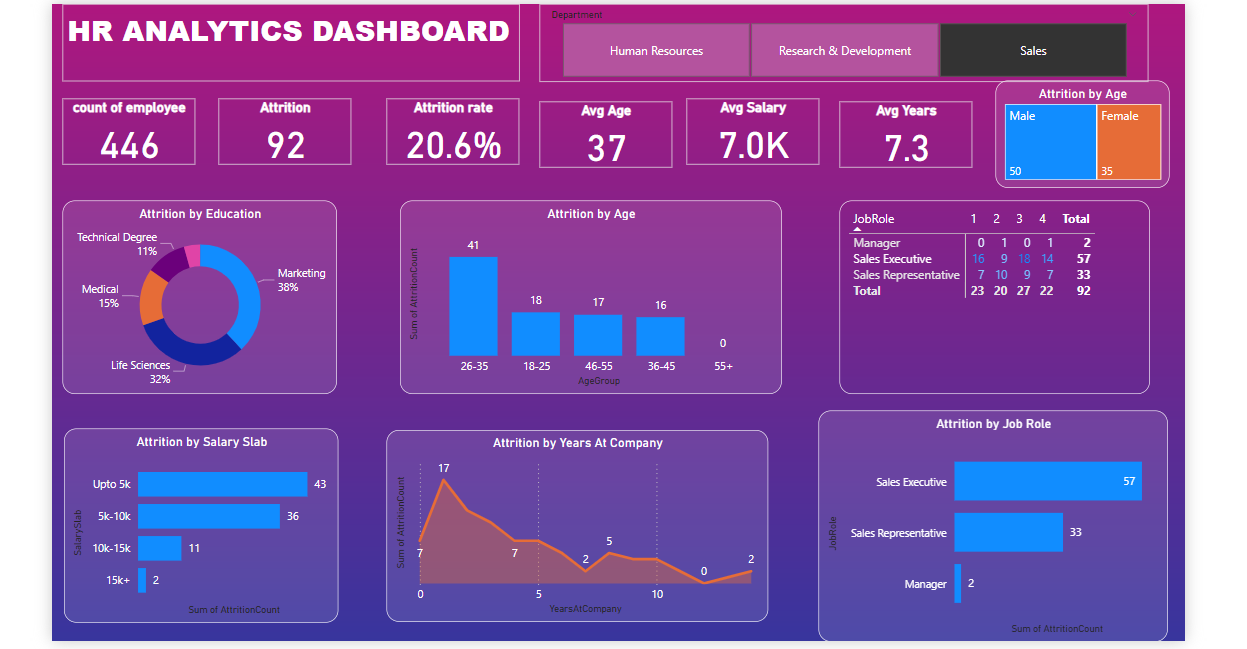

This screenshot's page, from the dashboard's own definition file:
{"tool":"powerbi","page":{"name":"Page 1","canvas":[1280,720],"ordinal":0},"visuals":[{"type":"card","title":"count of employee","fields":{"Values":["CountNonNull(HR_Analytics.EmpID)"]},"box":[12.2,107.3,149.9,74.9],"z":0},{"type":"card","title":"Attrition","fields":{"Values":["Sum(HR_Analytics.AttritionCount)"]},"box":[188.4,107.3,149.9,74.9],"z":1000},{"type":"card","title":"Attrition rate","fields":{"Values":["HR_Analytics.AttritionRate"]},"box":[378.7,107.3,149.9,74.9],"z":2000},{"type":"card","title":"Avg Age","fields":{"Values":["Avg(HR_Analytics.Age)"]},"box":[550.9,109.4,149.9,74.9],"z":3000},{"type":"card","title":"Avg Salary","fields":{"Values":["Avg(HR_Analytics.MonthlyIncome)"]},"box":[717,107.3,149.9,74.9],"z":4000},{"type":"card","title":"Avg Years","fields":{"Values":["Avg(HR_Analytics.YearsAtCompany)"]},"box":[889.1,109.4,149.9,74.9],"z":5000},{"type":"donutChart","title":"Attrition by Education","fields":{"Category":["HR_Analytics.EducationField"],"Y":["Sum(HR_Analytics.AttritionCount)"]},"box":[12.2,222.8,309.9,218.7],"z":6000},{"type":"columnChart","title":"Attrition by Age","fields":{"Category":["HR_Analytics.AgeGroup"],"Y":["Sum(HR_Analytics.AttritionCount)"]},"box":[392.9,222.8,431.4,218.7],"z":7000},{"type":"pivotTable","fields":{"Rows":["HR_Analytics.JobRole"],"Columns":["HR_Analytics.JobSatisfaction"],"Values":["Sum(HR_Analytics.AttritionCount)"]},"box":[889.1,222.8,350.4,218.7],"z":8000},{"type":"barChart","title":"Attrition by Salary Slab","fields":{"Category":["HR_Analytics.SalarySlab"],"Y":["Sum(HR_Analytics.AttritionCount)"]},"box":[12.7,480.4,310.2,219.5],"z":9000},{"type":"barChart","title":"Attrition by Job Role","fields":{"Y":["Sum(HR_Analytics.AttritionCount)"],"Category":["HR_Analytics.JobRole"]},"box":[866.8,459.7,394.9,261.3],"z":10000},{"type":"areaChart","title":"Attrition by Years At Company","fields":{"Category":["HR_Analytics.YearsAtCompany"],"Y":["Sum(HR_Analytics.AttritionCount)"]},"box":[378.7,482,431.4,216.7],"z":11000},{"type":"treemap","title":"Attrition by Age","fields":{"Group":["HR_Analytics.Gender"],"Values":["Sum(HR_Analytics.AttritionCount)"]},"box":[1065.3,87.1,196.5,121.5],"z":12000},{"type":"slicer","fields":{"Values":["HR_Analytics.Department"]},"box":[550.9,0,688.6,87.1],"z":13000},{"type":"textbox","box":[12.2,0,516.5,87.1],"z":14000}]}

Visuals, with their boxes on the page's 1280x720 design canvas (x1, y1, x2, y2). These are canvas units, not pixel positions in the 1247x649 screenshot, which may show the page scaled, cropped or inside an application window:
"count of employee" card: box=[12, 107, 162, 182]
"Attrition" card: box=[188, 107, 338, 182]
"Attrition rate" card: box=[379, 107, 529, 182]
"Avg Age" card: box=[551, 109, 701, 184]
"Avg Salary" card: box=[717, 107, 867, 182]
"Avg Years" card: box=[889, 109, 1039, 184]
"Attrition by Education" donutChart: box=[12, 223, 322, 442]
"Attrition by Age" columnChart: box=[393, 223, 824, 442]
pivotTable - HR_Analytics.JobRole x HR_Analytics.JobSatisfaction: box=[889, 223, 1240, 442]
"Attrition by Salary Slab" barChart: box=[13, 480, 323, 700]
"Attrition by Job Role" barChart: box=[867, 460, 1262, 721]
"Attrition by Years At Company" areaChart: box=[379, 482, 810, 699]
"Attrition by Age" treemap: box=[1065, 87, 1262, 209]
slicer - HR_Analytics.Department: box=[551, 0, 1240, 87]
textbox: box=[12, 0, 529, 87]
